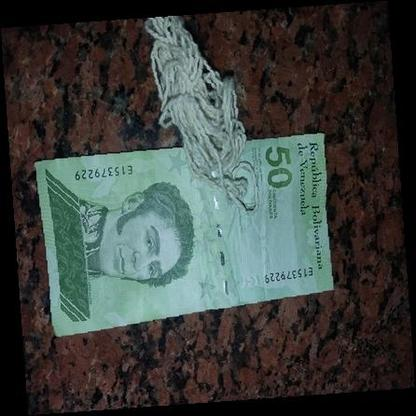fifty-front-vef: (34, 133, 334, 336)
